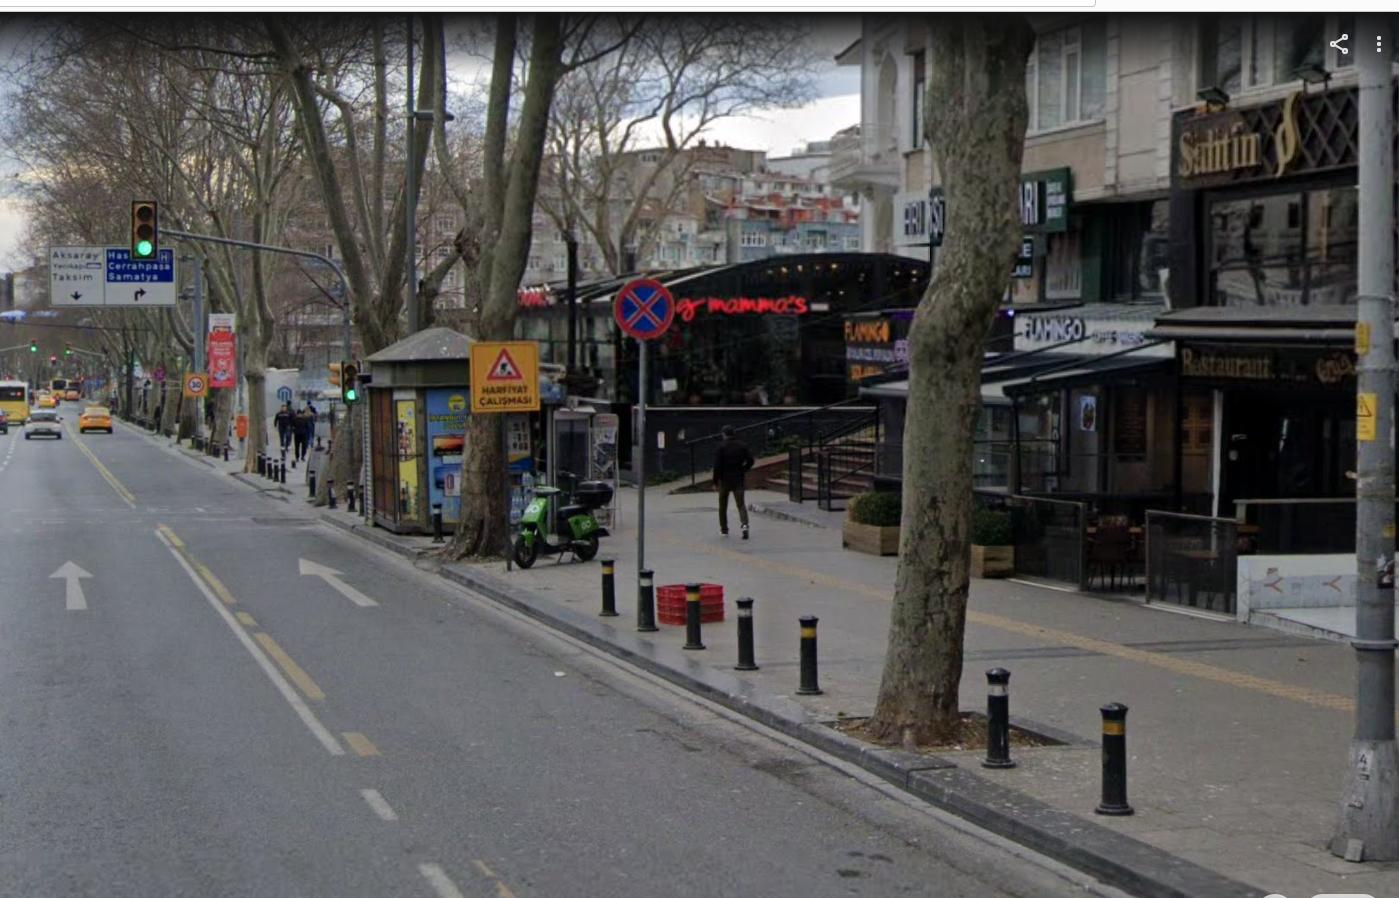greenlight: (133, 205, 154, 266), (343, 356, 365, 406)
